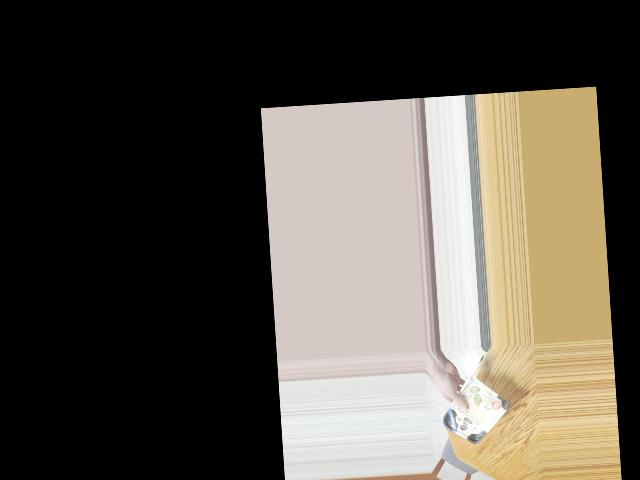cheese: (446, 385, 504, 446)
